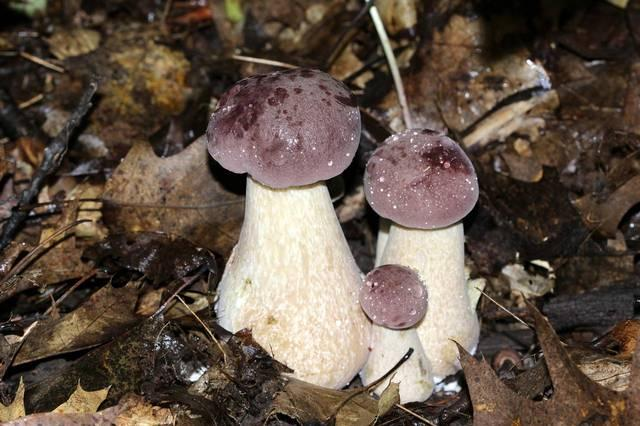poisonous_mushroom: (204, 66, 372, 390), (361, 127, 483, 383)
